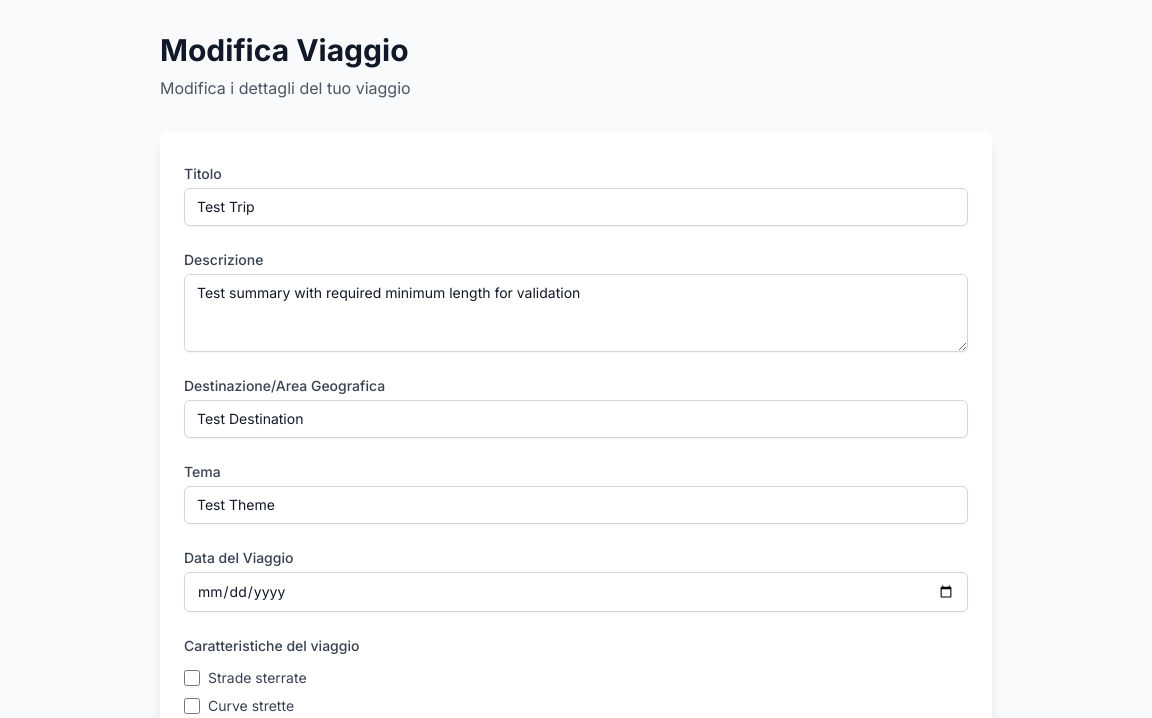
Test: EditTripForm Component - Toast Integration and Slug Redirect › Error Display and Handling › shouldDisplayFieldErrors
Note: Modifica il titolo per forzare errore di validazione
Replace the text in the field labelled "Titolo" with "X": [576, 207] box [184,188,968,226]
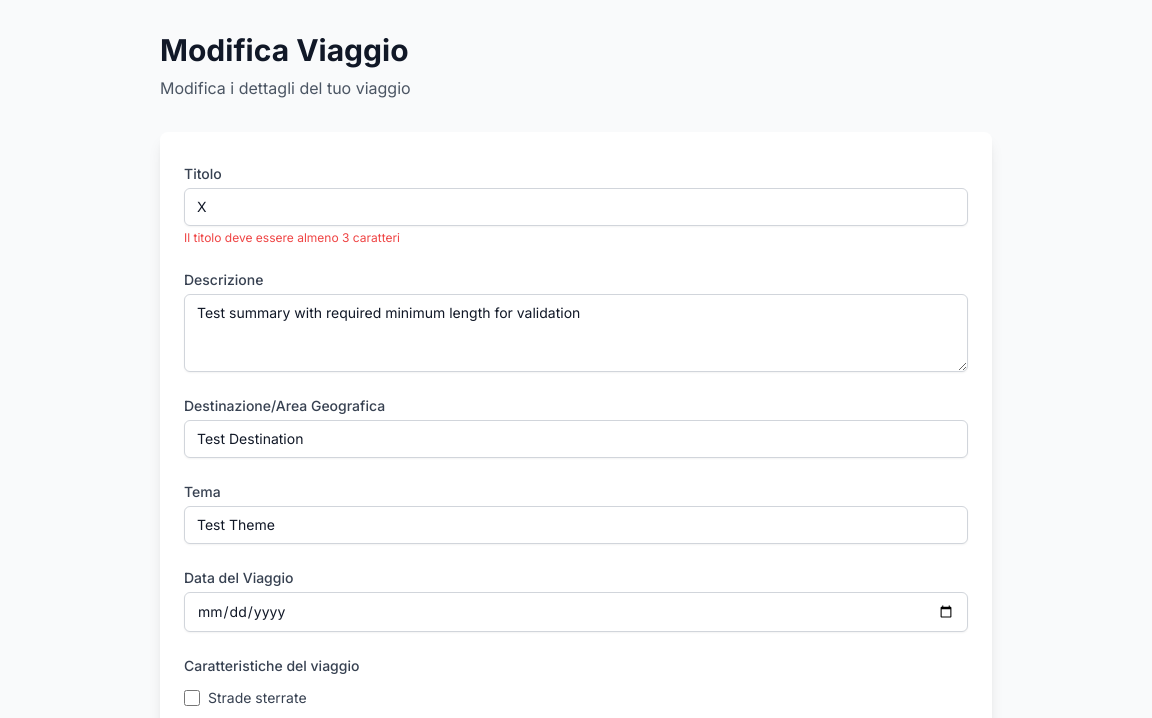
Check: the text "Il titolo deve essere almeno 3 caratteri" is shown, box [184,230,400,245]
